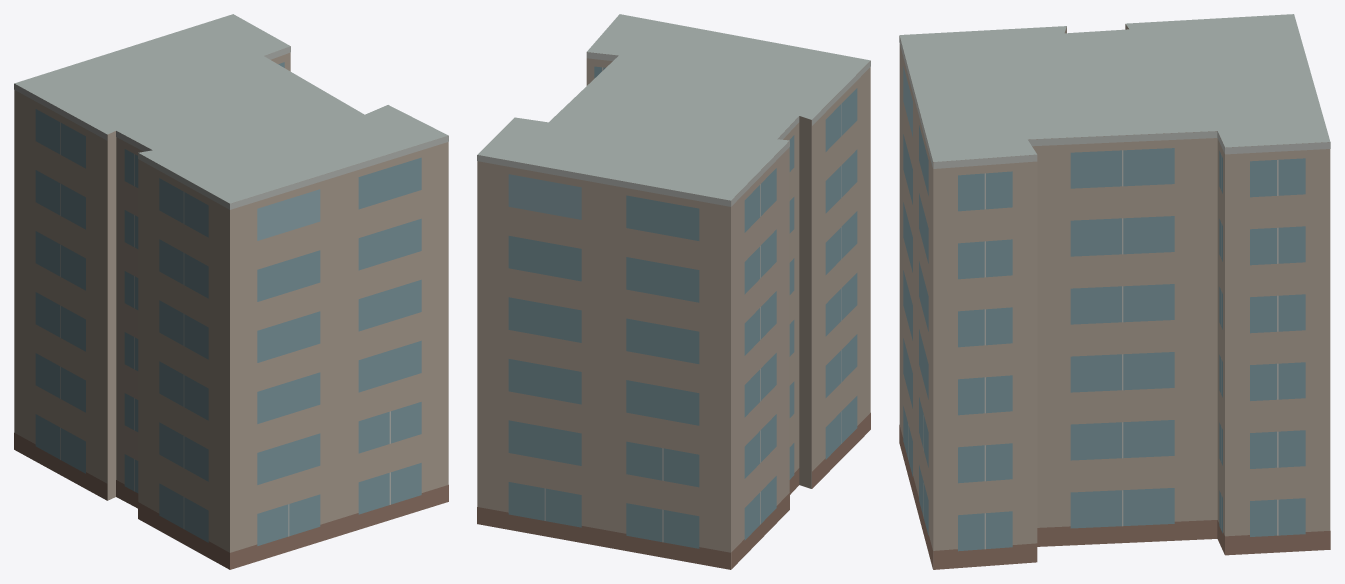
File: survey-upis-32964141.glb
The picture shows the model from 3 angles, left to right: view 1: azimuth 30°, elevation 25°; view 2: azimuth 150°, elevation 25°; view 3: azimuth 270°, elevation 25°; orthographic projection. The views are drawn at different scales.
Visible parts, largest first — view 1: survey-upis-32964141.tmp; view 2: survey-upis-32964141.tmp; view 3: survey-upis-32964141.tmp.
Boxes of the visible parts, x1,y1,x2,y2 form: survey-upis-32964141.tmp: [14, 14, 448, 569]; survey-upis-32964141.tmp: [477, 14, 870, 569]; survey-upis-32964141.tmp: [899, 14, 1330, 569].
Bounding box in the file's own units: 11.15 × 14.3 × 13.71.
